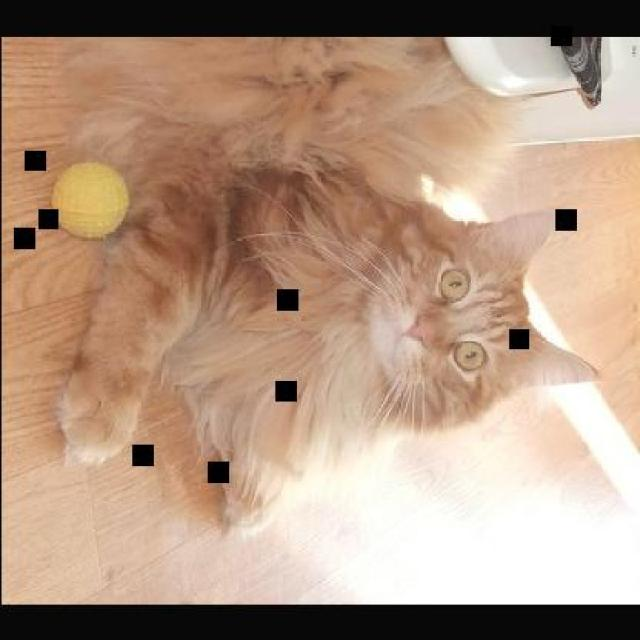unauthorized: (49, 35, 597, 537)
